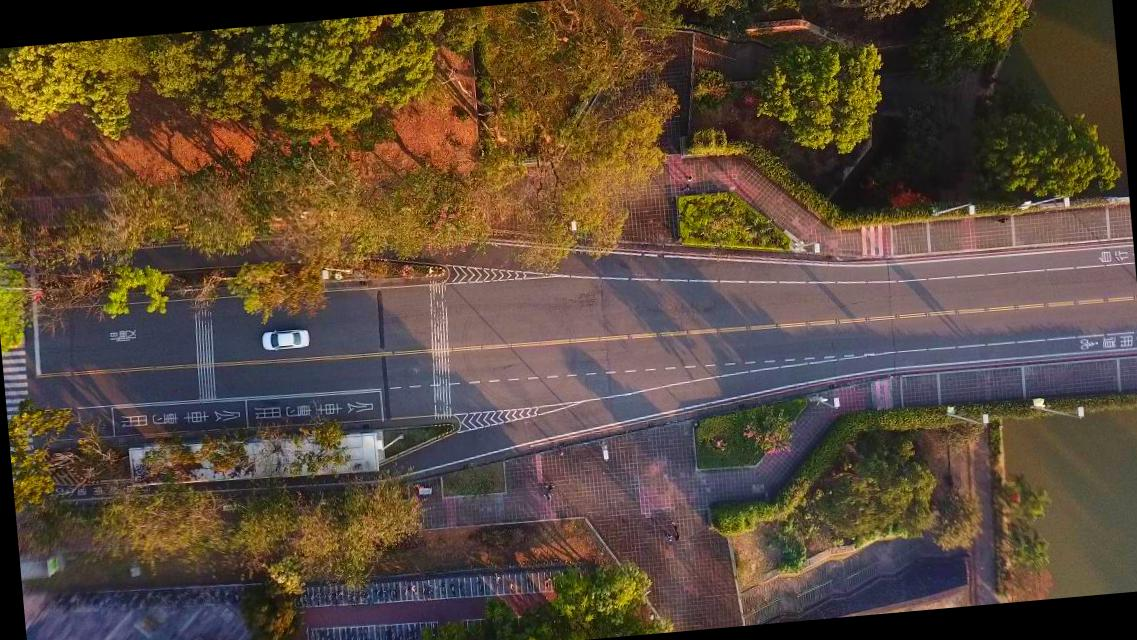vehicle: (260, 326, 310, 352), (0, 323, 27, 350)
